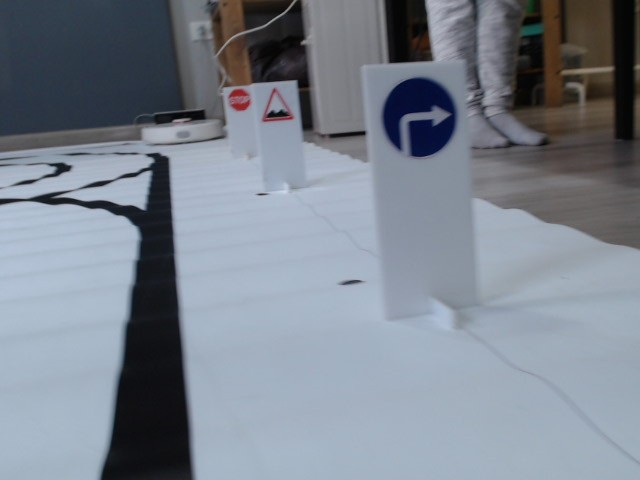Nerov: (260, 87, 295, 122)
Right: (381, 75, 458, 161)
Stop: (226, 86, 252, 114)
